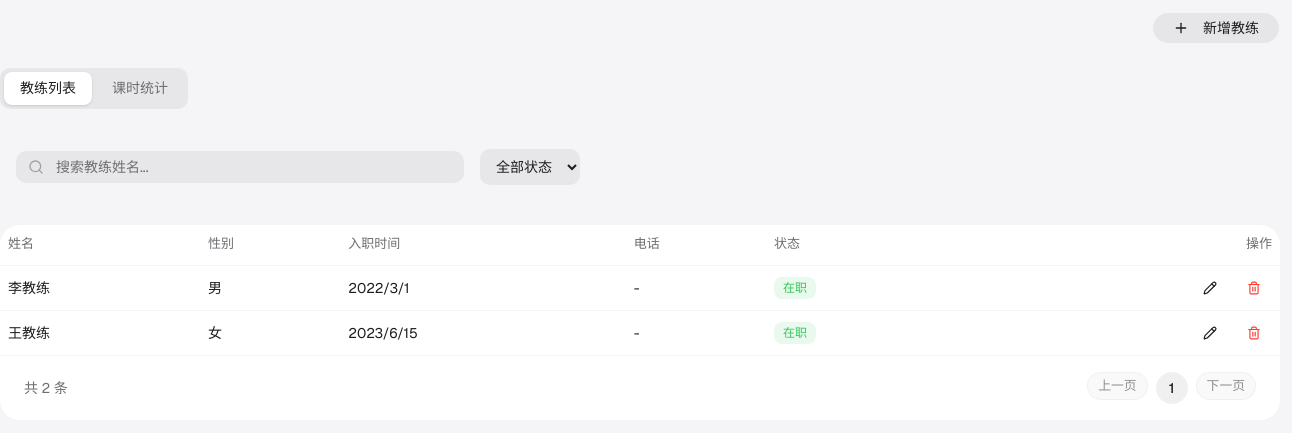
Test: CoachesPage 教练管理页 › 切换到课时统计 Tab 显示矩阵表格
Expected: the link "李教练" is shown, [8,278,50,296]
# 切换到课时统计 Tab
Click the button "课时统计": (140, 88) [96,72,184,105]
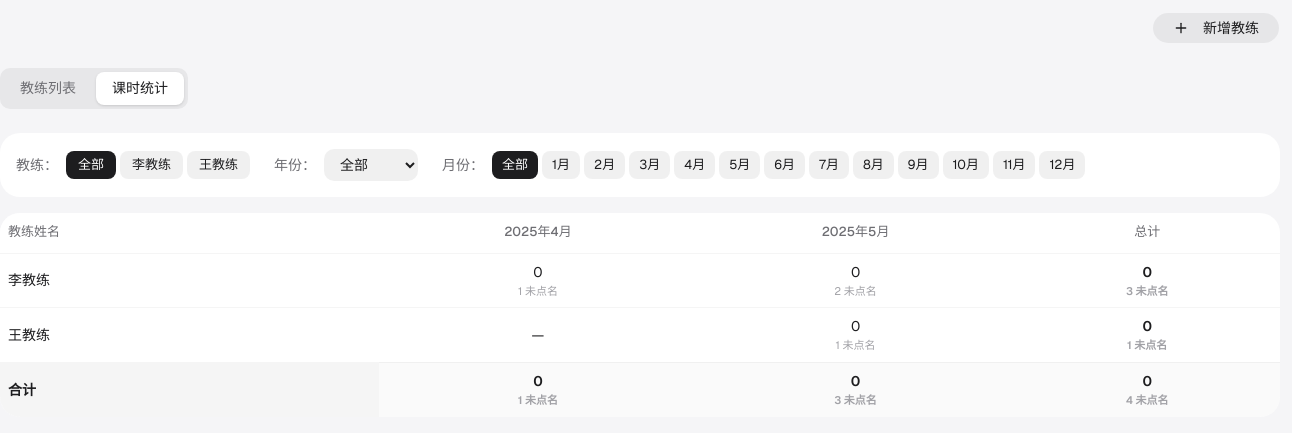
Expected: the column heading "2025年5月" is shown, [697,213,1014,253]
Expected: the column heading "2025年4月" is shown, [379,213,697,253]
Expected: the row "李教练 0 1 未点名 0 2 未点名 0 3 未点名" is shown, [0,253,1280,308]
